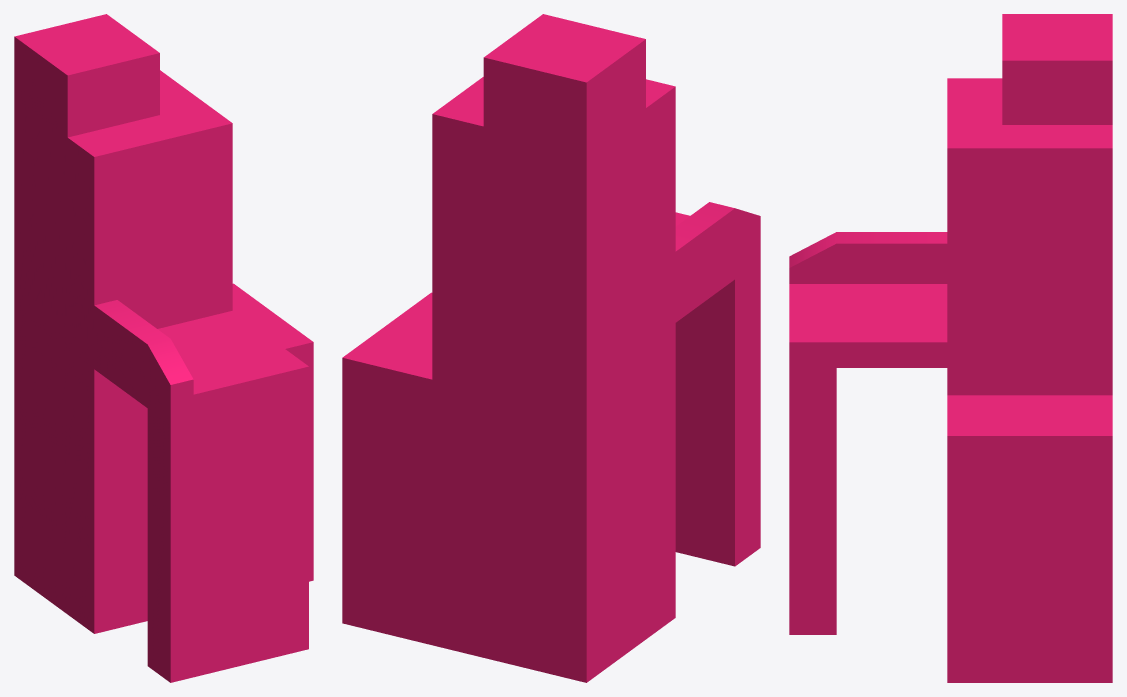
The model's file is building_9.obj.
The picture shows the model from 3 angles, left to right: view 1: azimuth 30°, elevation 25°; view 2: azimuth 150°, elevation 25°; view 3: azimuth 270°, elevation 25°; orthographic projection. The views are drawn at different scales.
Parts seen in each view (by area): view 1: Building_8; view 2: Building_8; view 3: Building_8.
Part boxes in pixels (x1,y1,x2,y2): Building_8: (14, 14, 313, 682); Building_8: (342, 14, 760, 682); Building_8: (789, 14, 1112, 682).
Bounding box in the file's own units: 11.03 × 25.9 × 13.6.
